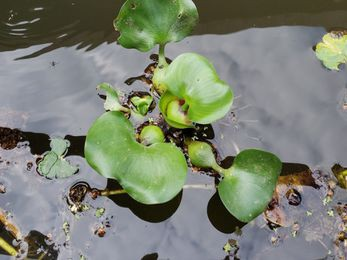water_hyacinth: (85, 0, 282, 227)
